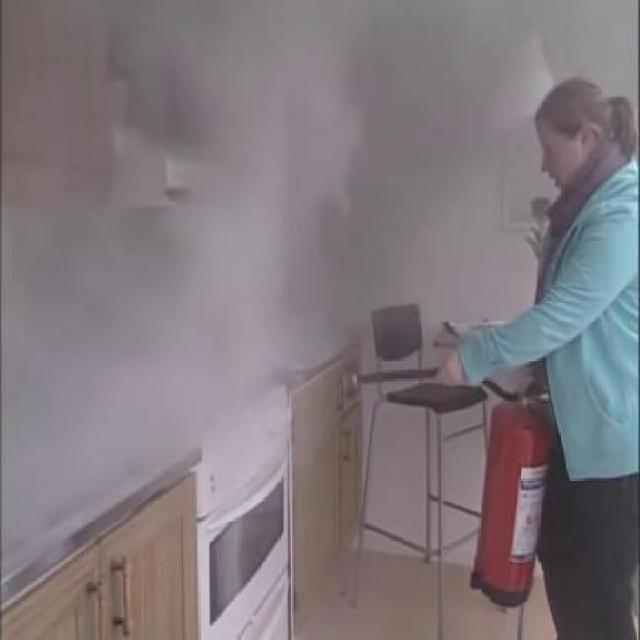smoke: (114, 2, 363, 275), (3, 194, 217, 502), (181, 151, 341, 352), (127, 250, 253, 427)
